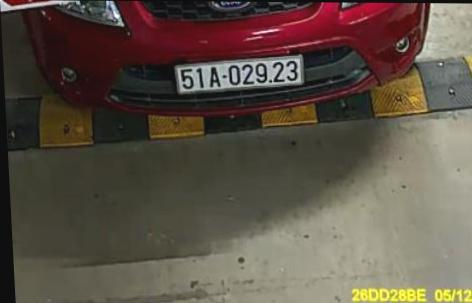License_Plate: (169, 52, 307, 94)
